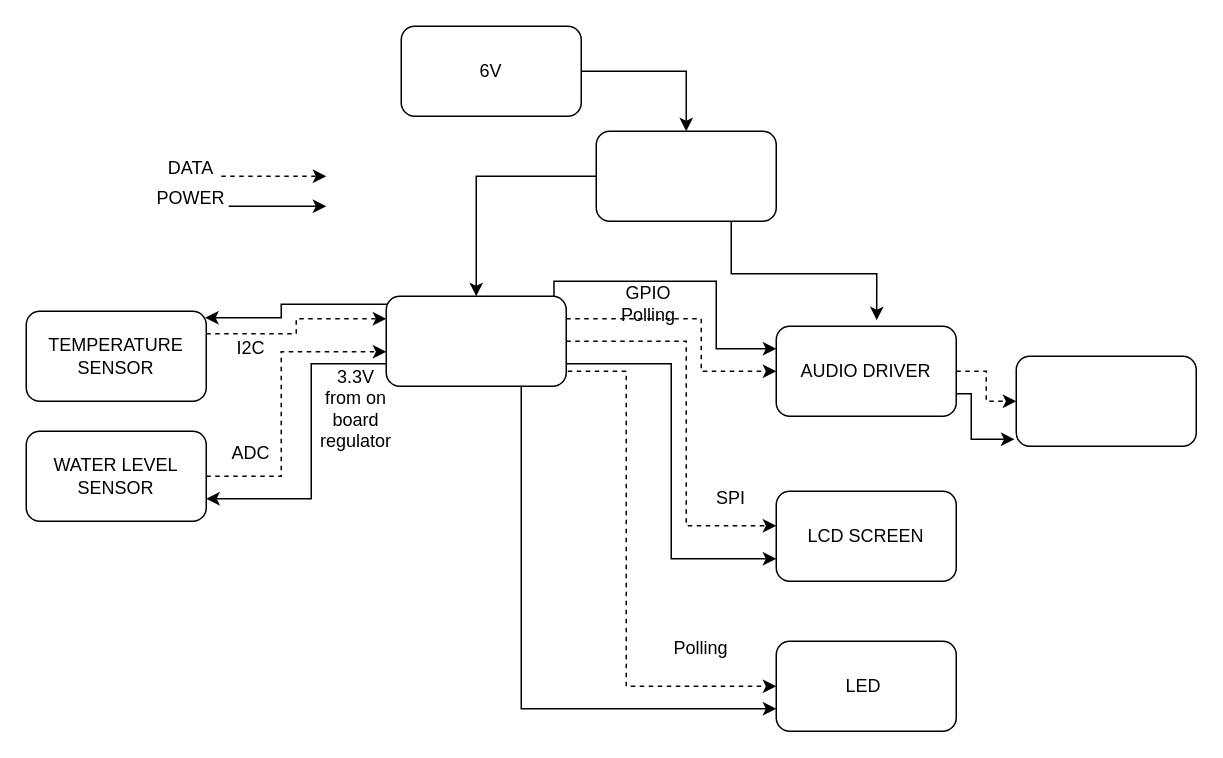
Some shapes in this 1223 by 758 pixel diagram are drawn without their labels. Each missing label, with the centre of its shape:
ATmega328PB: [475,340]
LINEAR REGULATOR 5V: [685,175]
SPEAKER: [1105,400]
